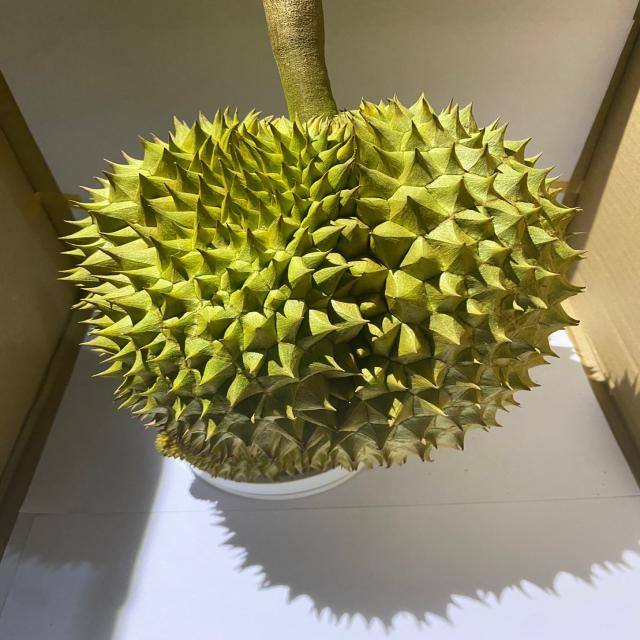immature: (60, 92, 590, 476)
